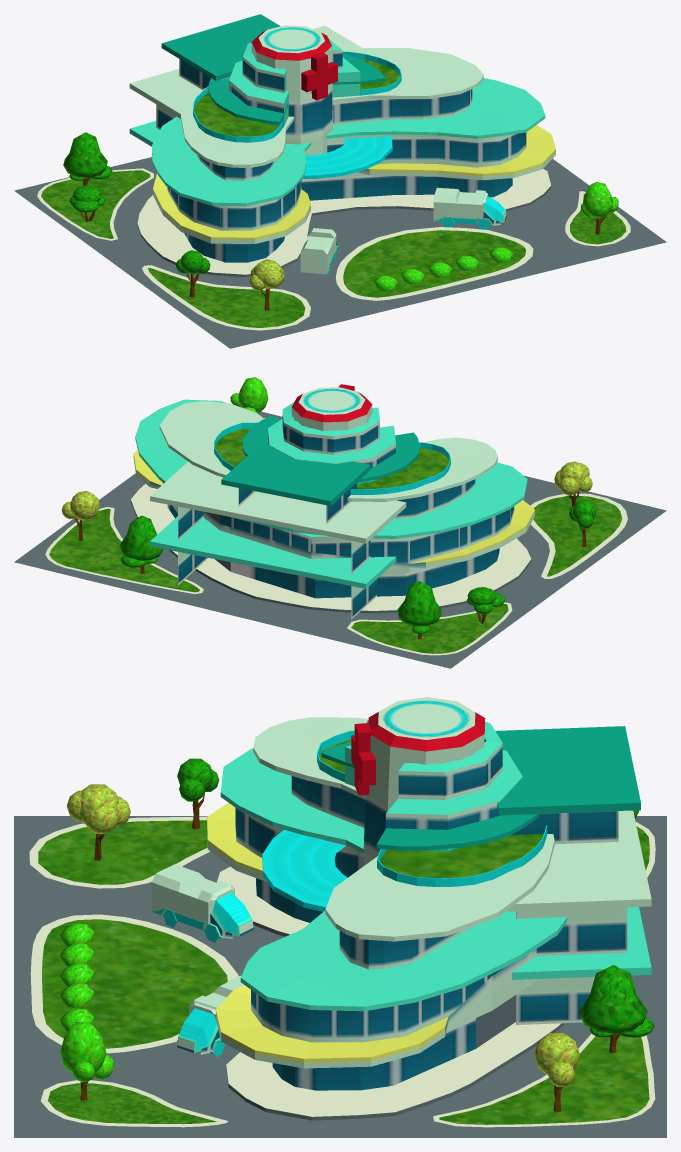
Rendered from hospital_LV2.fbx.
3 renders of one model, top to bottom at view 1: azimuth 30°, elevation 25°; view 2: azimuth 150°, elevation 25°; view 3: azimuth 270°, elevation 25°, orthographic. The views are drawn at different scales.
Parts seen in each view (by area): view 1: hospital 2; view 2: hospital 2; view 3: hospital 2.
Part boxes in pixels (box(x1,y1,x2,y2)): hospital 2: box(14, 14, 666, 348); hospital 2: box(14, 377, 666, 668); hospital 2: box(14, 697, 666, 1137).
Size of the model in its own units: 140 by 50.6 by 120.
